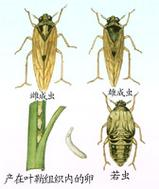Delphacidae: (13, 5, 77, 89), (87, 7, 143, 86), (95, 90, 146, 172)
